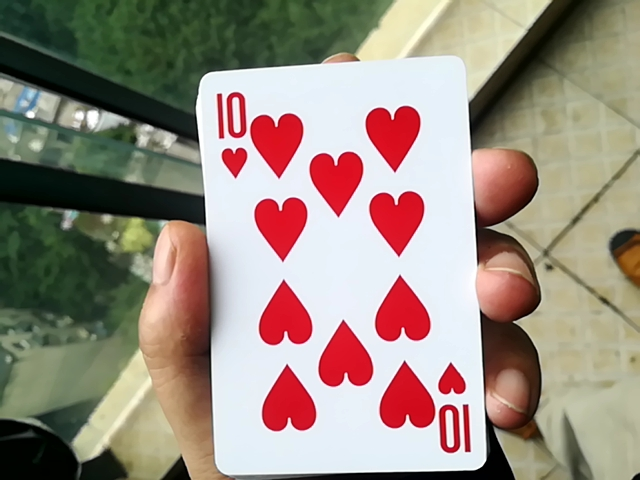hx 10: (190, 40, 481, 471)
